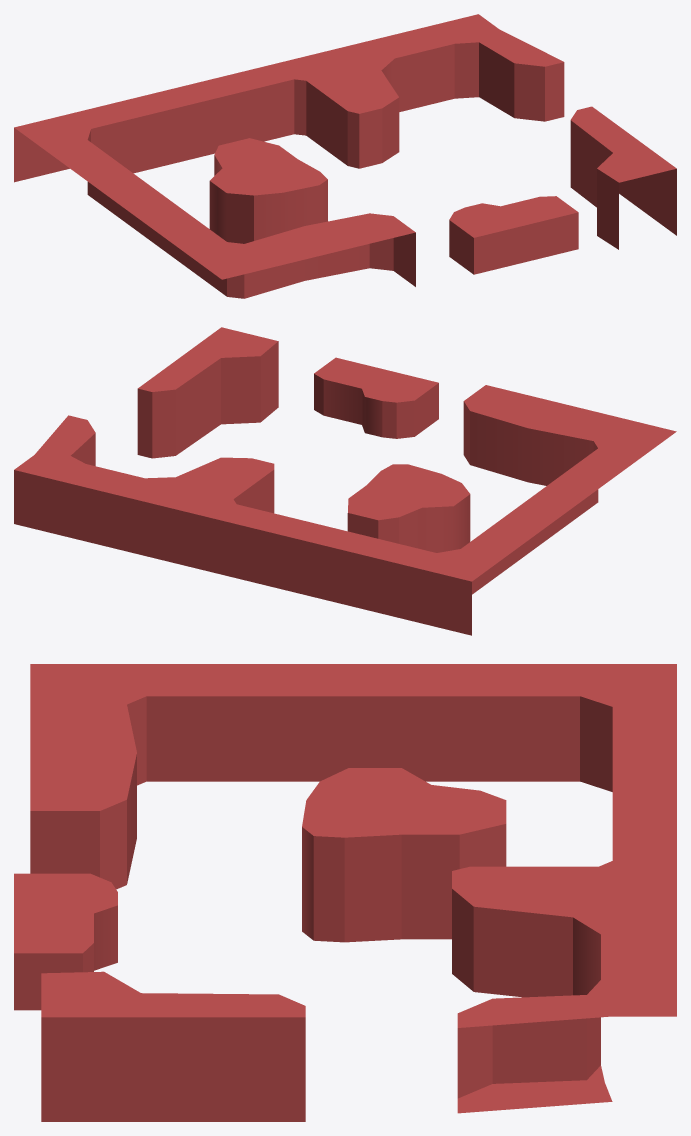
File: LeftTop_Colliders.fbx
3 renders of one model, top to bottom at view 1: azimuth 30°, elevation 25°; view 2: azimuth 150°, elevation 25°; view 3: azimuth 270°, elevation 25°, orthographic. The views are drawn at different scales.
Parts seen in each view (by area): view 1: LeftTop; view 2: LeftTop; view 3: LeftTop.
Part boxes in pixels (bbox=[...]): LeftTop: bbox=[14, 14, 676, 298]; LeftTop: bbox=[14, 327, 676, 635]; LeftTop: bbox=[14, 664, 676, 1121].
Bounding box in the file's own units: 1829 × 298 × 1407.
